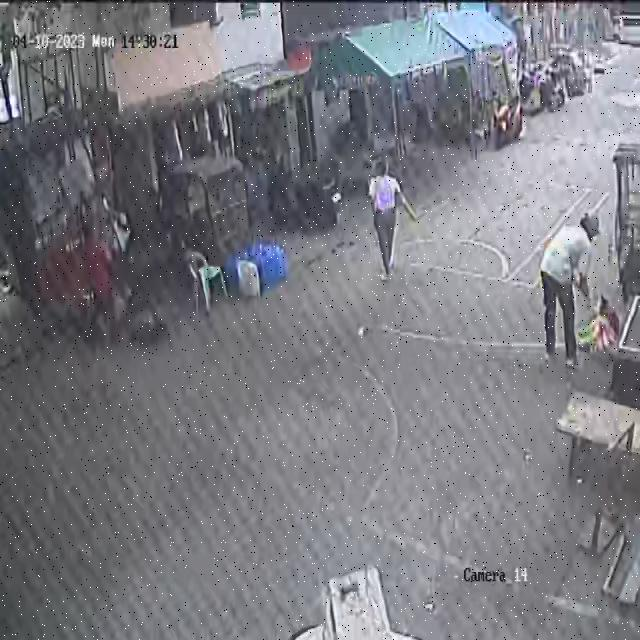human: (538, 209, 622, 368), (362, 141, 417, 283)
trash: (574, 280, 618, 361)
